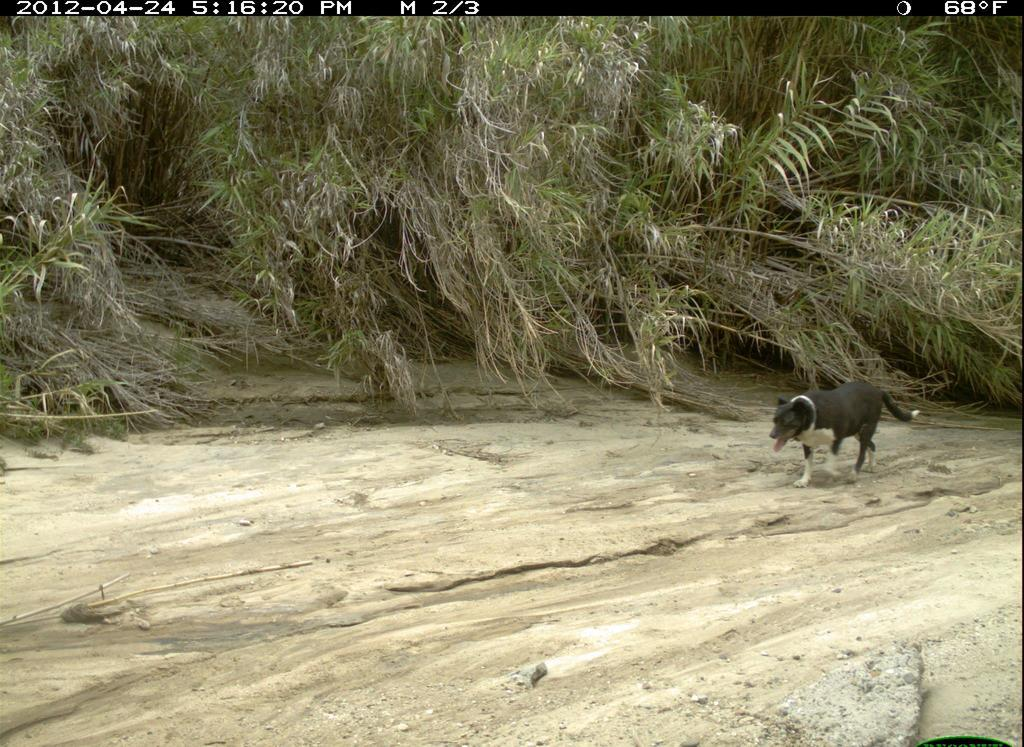dog: (757, 368, 936, 505)
